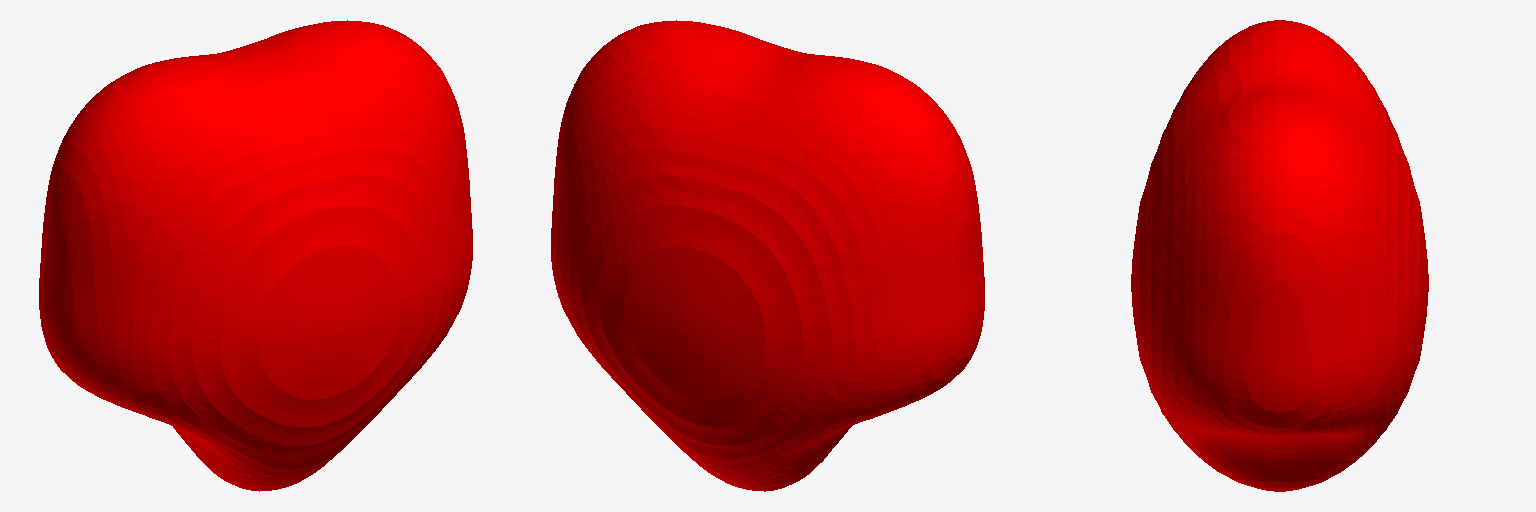
robot.urdf — heart:
<?xml version="1.0"?>
<robot name="heart">
  <link name="base_link">
    <inertial>
      <mass value="5.0"/>
      <origin xyz="0 0 0" rpy="0 0 0"/>
      <inertia ixx="0.1" ixy="0" ixz="0" iyy="0.1" iyz="0" izz="0.1"/>
    </inertial>
    <visual>
      <origin xyz="0 0 0" rpy="1.57 0 0"/>
      <geometry>
        <mesh filename="heart2_8.stl" scale="1 1 1"/>
      </geometry>
      <material name="red">
        <color rgba="1 0 0 1"/>
      </material>
    </visual>
    <collision>
      <origin xyz="0 0 0" rpy="1.57 0 0"/>
      <geometry>
        <mesh filename="heart2_8.stl" scale="1 1 1"/>
      </geometry>
    </collision>
  </link>
</robot>

--- What the picture shows (computed from the rendered views, not written in the file) ---
Views: 3 orthographic renders of the robot side by side, from view 1: azimuth 30°, elevation 25°; view 2: azimuth 150°, elevation 25°; view 3: azimuth 270°, elevation 25°.
Robot: heart — 1 links, 0 joints (none); root link base_link; default pose: every joint at zero.
Visible links, largest first — view 1: base_link; view 2: base_link; view 3: base_link.
Boxes of the visible links, <box> form: base_link: <box>39,20,472,491</box>; base_link: <box>551,20,984,491</box>; base_link: <box>1131,20,1428,491</box>.
Bounding box of the posed robot: 0.4805 × 0.3199 × 0.4915 m (x, y, z).
1 mesh visuals loaded from 1 distinct referenced files (1 binary STL).
